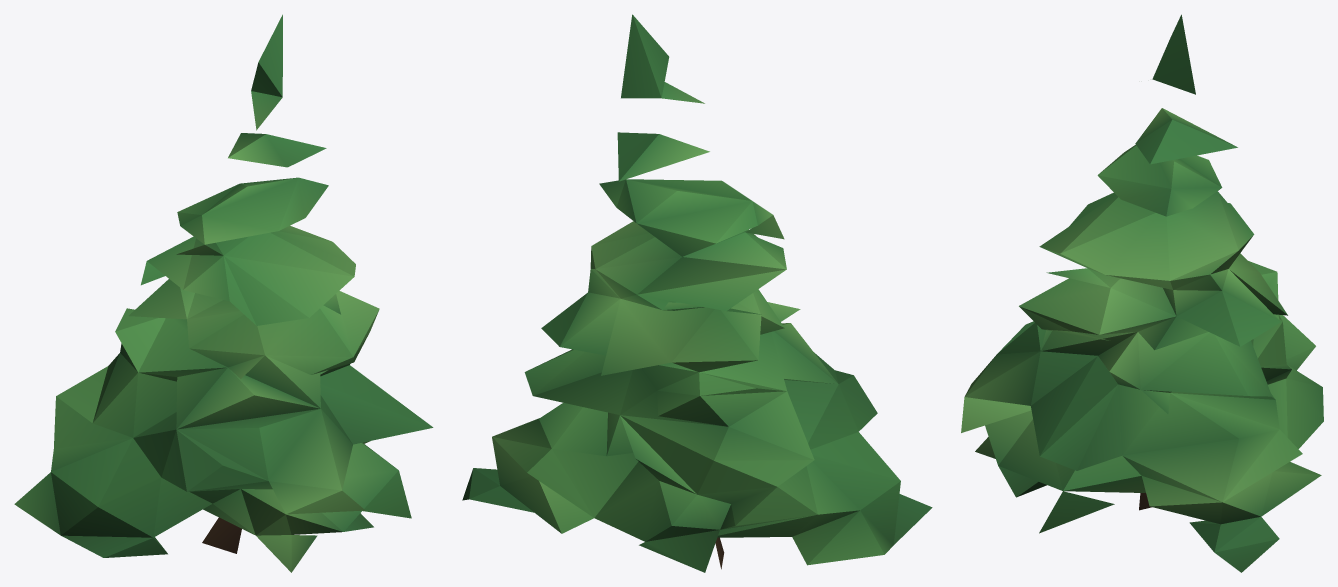
The model's file is pine_mature_tall_lean_far.glb.
The picture shows the model from 3 angles, left to right: view 1: azimuth 30°, elevation 25°; view 2: azimuth 150°, elevation 25°; view 3: azimuth 270°, elevation 25°; orthographic projection. The views are drawn at different scales.
Visible parts, largest first — view 1: pine_mature_tall_lean_LOD3; view 2: pine_mature_tall_lean_LOD3; view 3: pine_mature_tall_lean_LOD3.
Part boxes in pixels (x1,y1,x2,y2): pine_mature_tall_lean_LOD3: [14, 14, 433, 572]; pine_mature_tall_lean_LOD3: [462, 14, 932, 572]; pine_mature_tall_lean_LOD3: [961, 14, 1323, 572].
Bounding box in the file's own units: 6.07 × 7.6 × 4.71.
